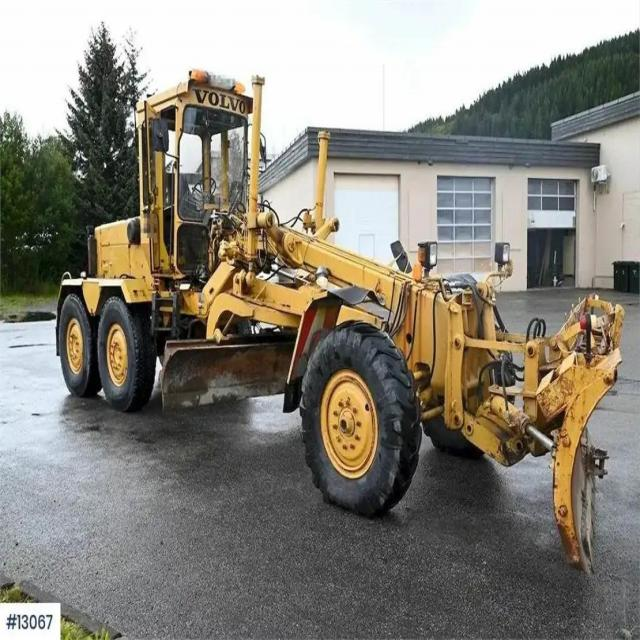Grader: (53, 67, 626, 579)
